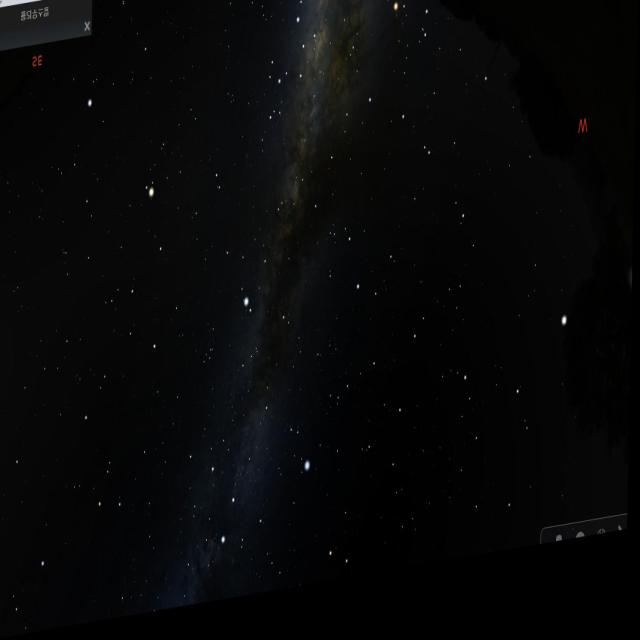aquila: (217, 200, 292, 334)
cygnus: (205, 379, 281, 568)
lyra: (286, 424, 320, 494)
sagittarius: (264, 0, 316, 121)
